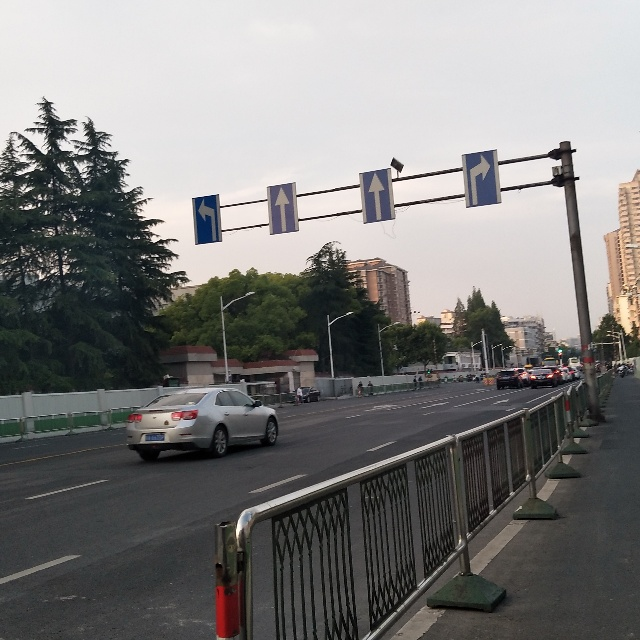left: (191, 193, 222, 245)
right: (462, 148, 502, 210)
straight: (357, 168, 396, 224), (265, 182, 300, 235)
